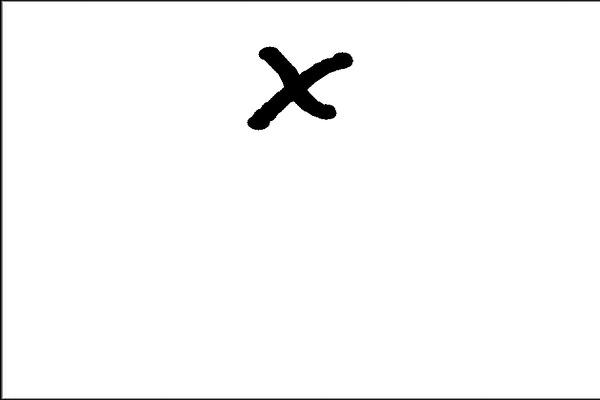X: (225, 26, 366, 139)
